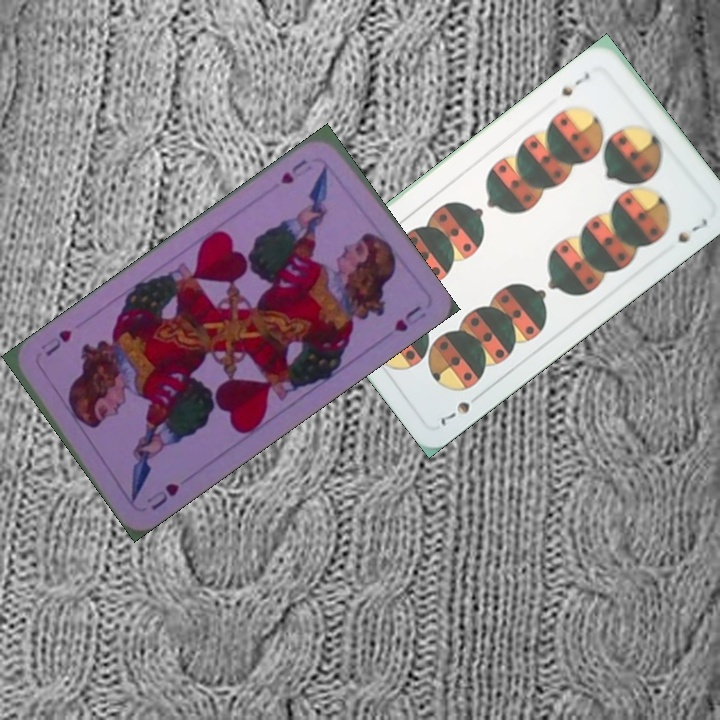HU: (142, 479, 182, 514), (276, 155, 310, 187)
S7: (436, 388, 486, 429), (557, 68, 593, 99)
